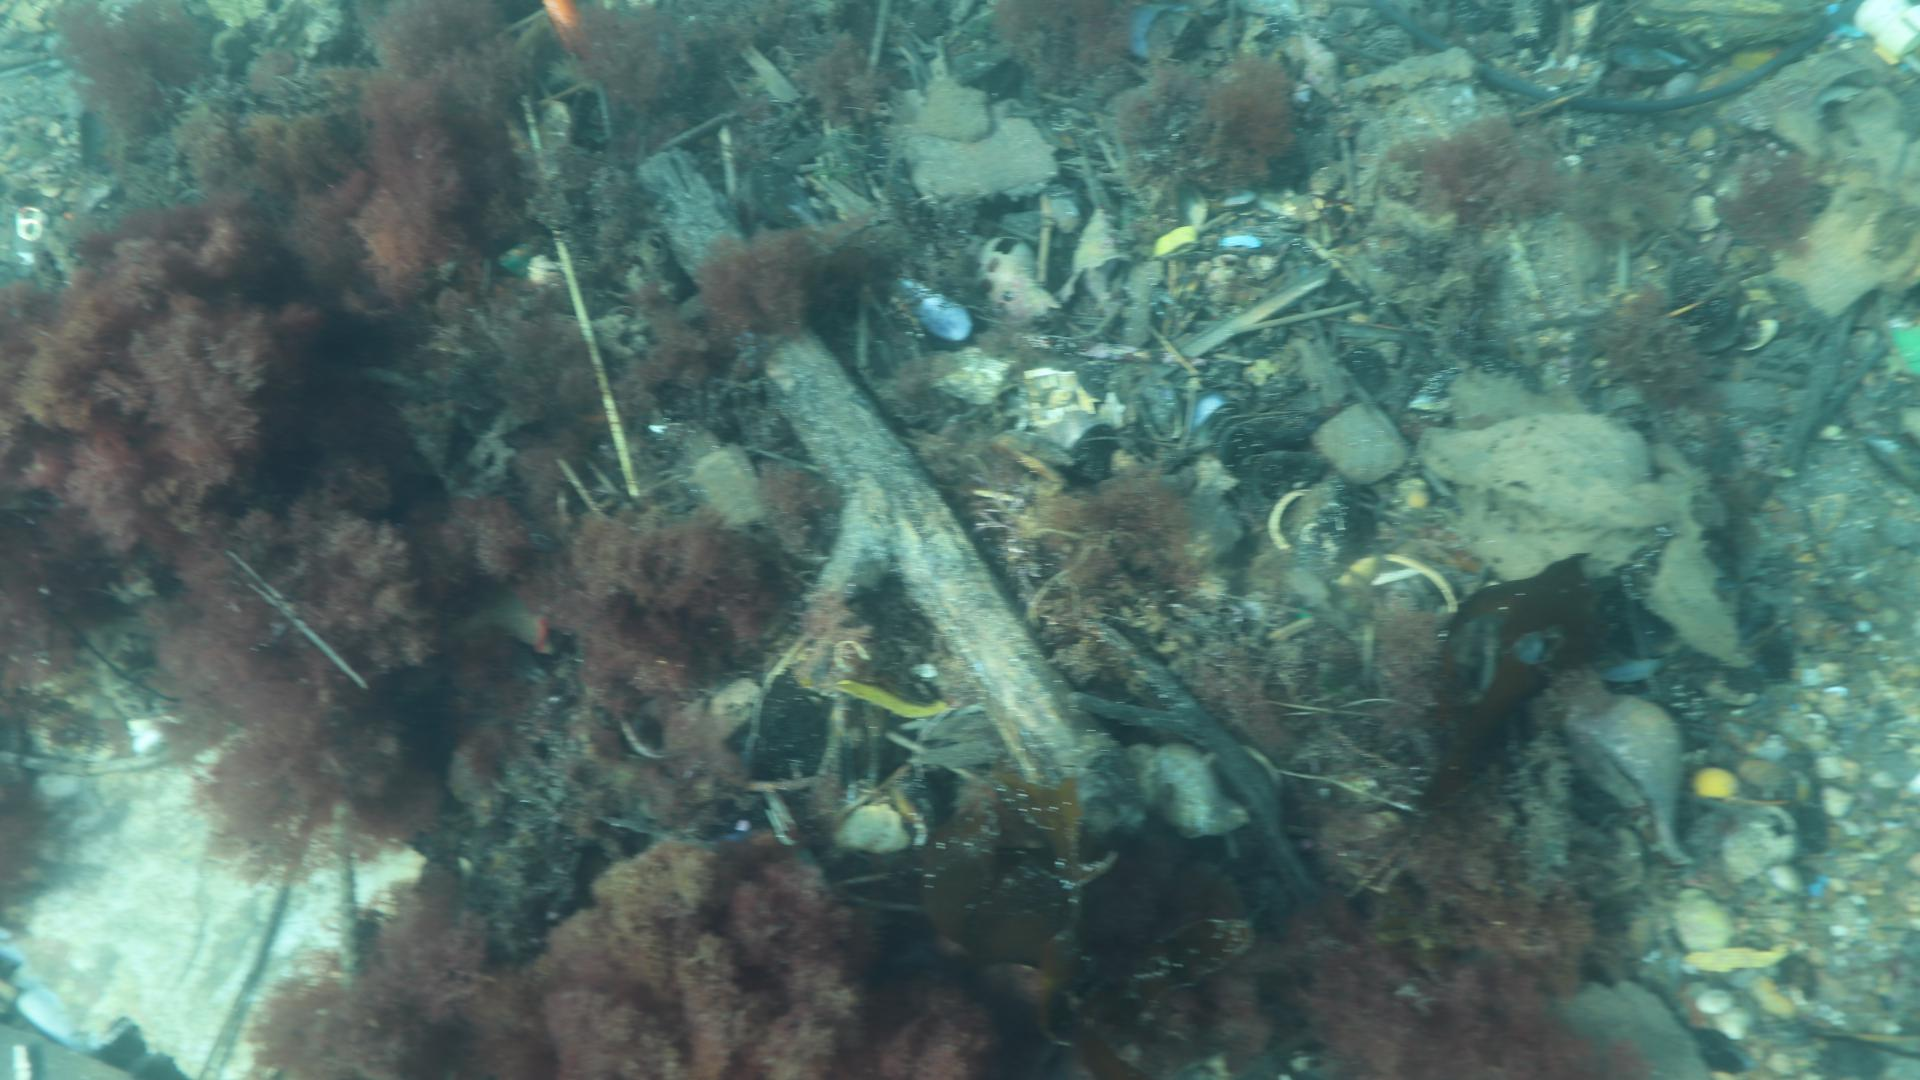wood: (630, 145, 1149, 848)
